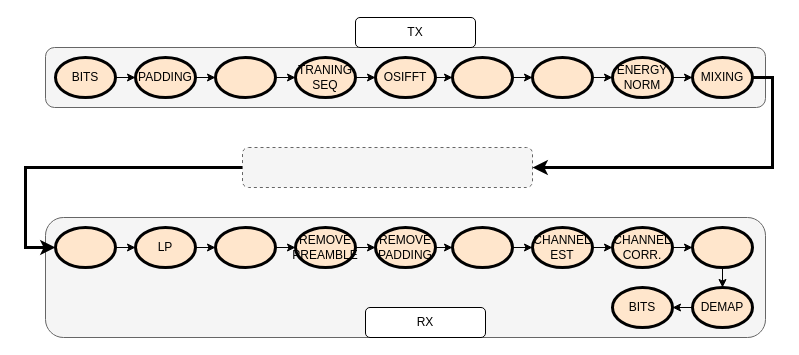
The diagram is 799 pixels wide and 355 high, and some of its shapes have lost their labels. Each missing label, with the centre of its shape:
CHANNEL: (x=387, y=167)
CP: (x=482, y=77)
DOWNMIX: (x=85, y=247)
FRAME SYNC: (x=245, y=247)
MAPPING: (x=245, y=77)
OSFFT: (x=722, y=247)
PREAMBLE: (x=562, y=77)
REMOVE CP: (x=482, y=247)
